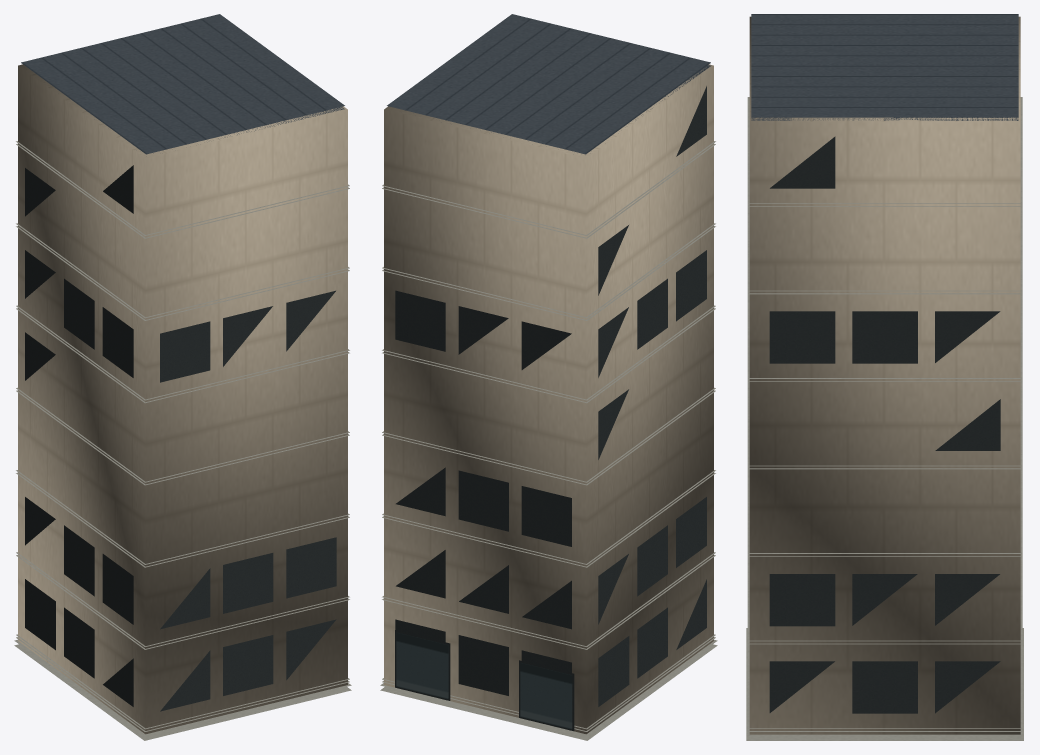
File: office_005.lod2.obj
3 renders of one model, left to right at view 1: azimuth 30°, elevation 25°; view 2: azimuth 150°, elevation 25°; view 3: azimuth 270°, elevation 25°, orthographic. The views are drawn at different scales.
Visible parts, largest first — view 1: office_005; view 2: office_005; view 3: office_005.
Boxes of the visible parts, bbox=[...] form: office_005: bbox=[14, 14, 351, 740]; office_005: bbox=[380, 14, 717, 740]; office_005: bbox=[746, 14, 1023, 740].
Size of the model in its own units: 8.57 by 23.05 by 9.4.
1 material, 1 textured.
